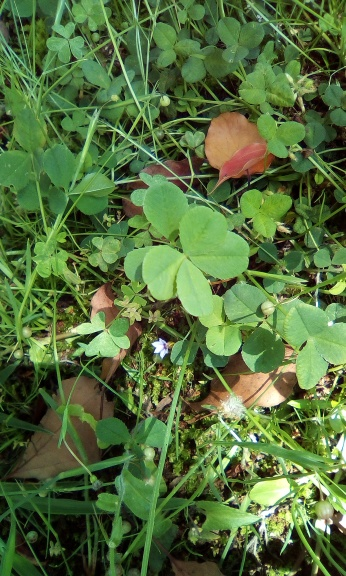4leaf: (142, 205, 250, 317)
